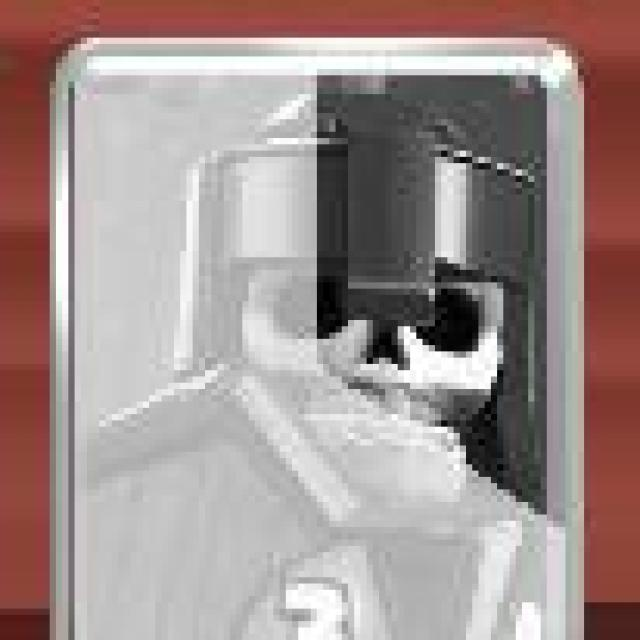Guards: (49, 36, 586, 640)
